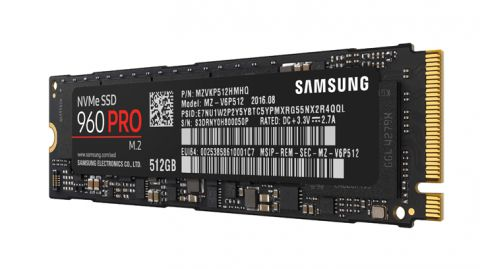M2 SSD: (33, 38, 466, 248)
